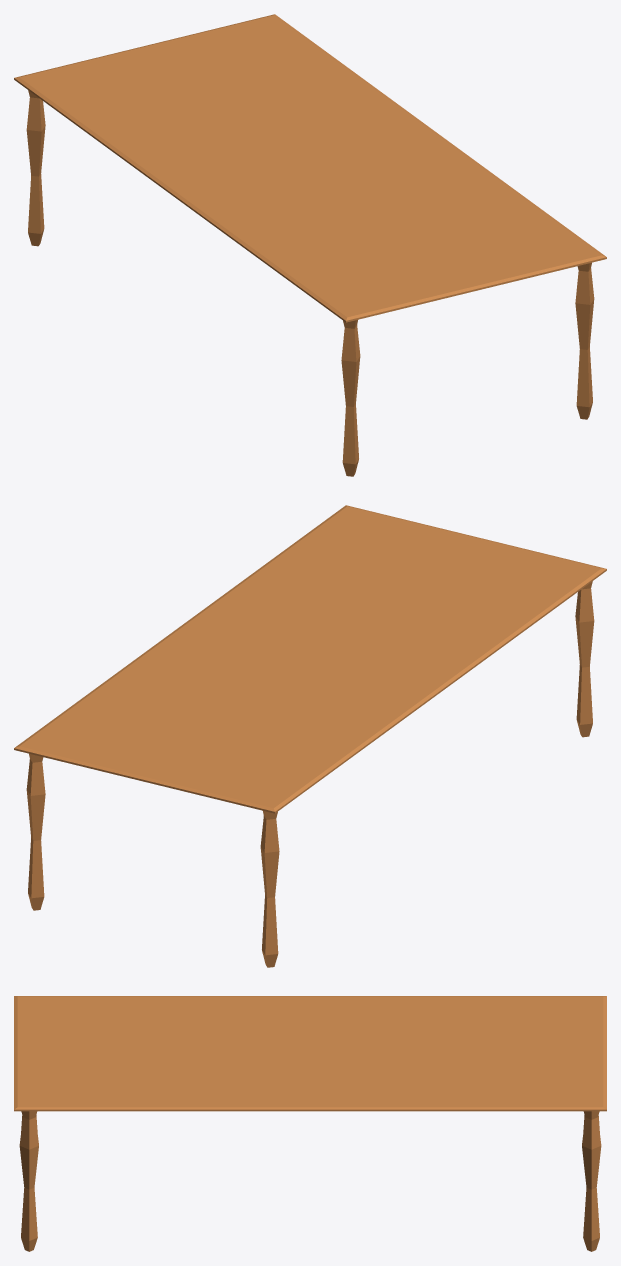
The model's file is Table.fbx.
The picture shows the model from 3 angles, top to bottom: view 1: azimuth 30°, elevation 25°; view 2: azimuth 150°, elevation 25°; view 3: azimuth 270°, elevation 25°; orthographic projection. The views are drawn at different scales.
Parts seen in each view (by area): view 1: Table; view 2: Table; view 3: Table.
Part boxes in pixels (<box>): Table: <box>14,14,606,476</box>; Table: <box>14,505,606,967</box>; Table: <box>14,996,606,1251</box>.
Bounding box in the file's own units: 364 × 219 × 801.
